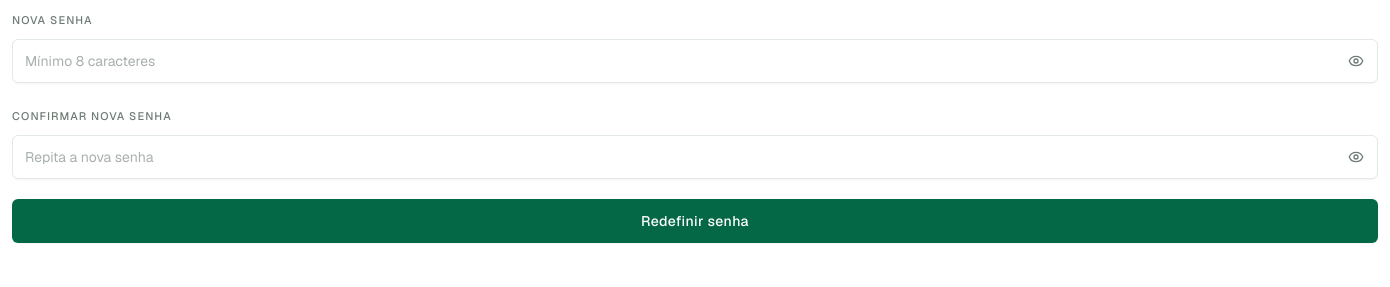
Test case: <PasswordResetConfirmForm /> › validação local bloqueia senhas que não conferem
Type "novasenha123" into the password field labelled "Nova senha".
click(695, 61); type("novasenha123")  # box top-left (12, 39), bottom-right (1378, 83)
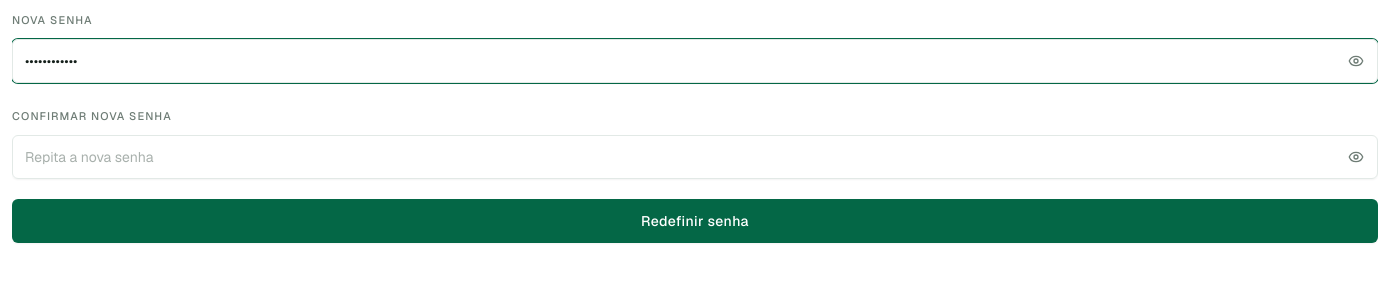
Type "outra-senha123" into the password field labelled "Confirmar nova senha".
click(695, 157); type("outra-senha123")  # box top-left (12, 135), bottom-right (1378, 179)
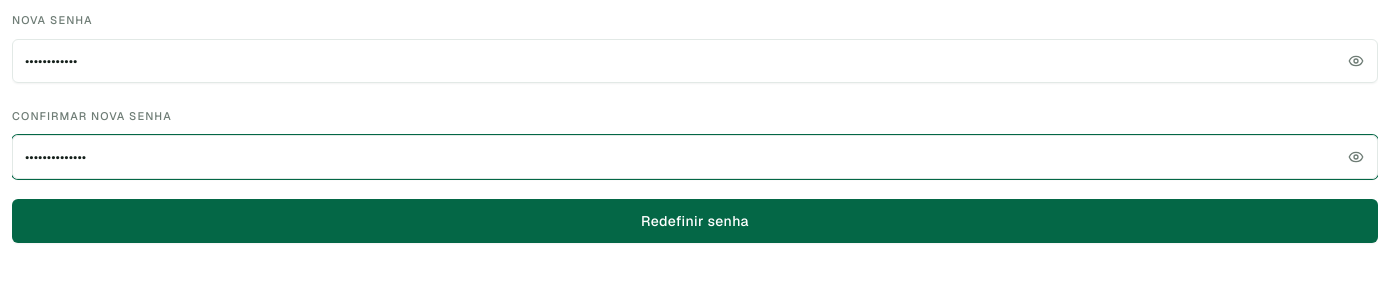
Click the button "Redefinir senha".
click(695, 221)  # box top-left (12, 199), bottom-right (1378, 243)
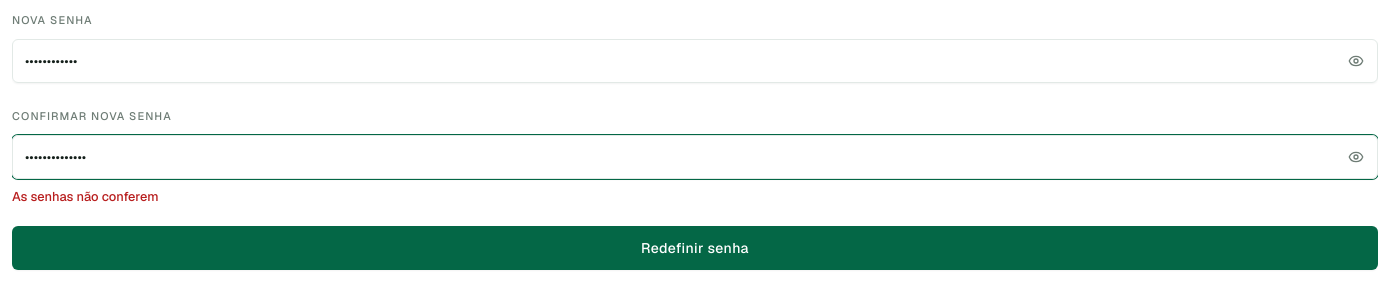
Check: the text "As senhas não conferem" is shown, box top-left (12, 188), bottom-right (158, 205)
